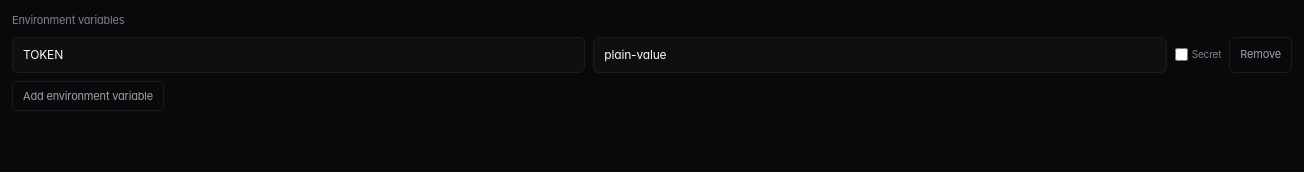
Test: MCP key/value editor › moves environment values into and out of secret storage
The width and height of the screenshot is (1304, 172).
Click the checkbox.
click(1181, 54)  # box [1175,48,1188,61]
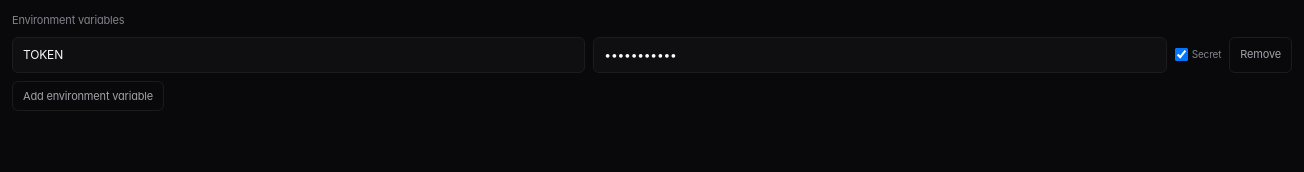
Expected: the password field with placeholder "Stored in vault" holds "plain-value", [593,36,1167,72]
Expected: the password field with placeholder "Stored in vault" hides its text, [593,36,1167,72]
Click the checkbox.
click(1181, 54)  # box [1175,48,1188,61]
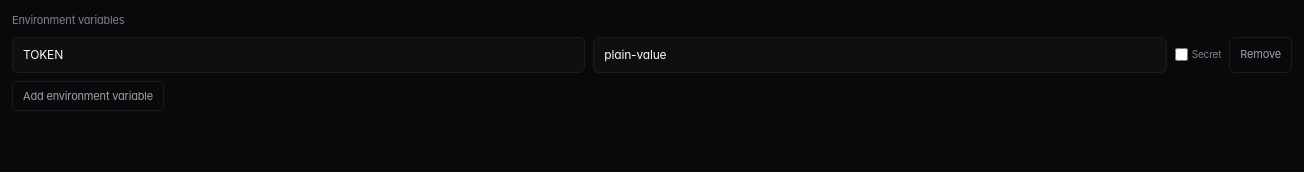
Expected: the 2nd field with placeholder "Value" holds "plain-value", [593,36,1167,72]
Expected: the 2nd field with placeholder "Value" shows its text, [593,36,1167,72]
